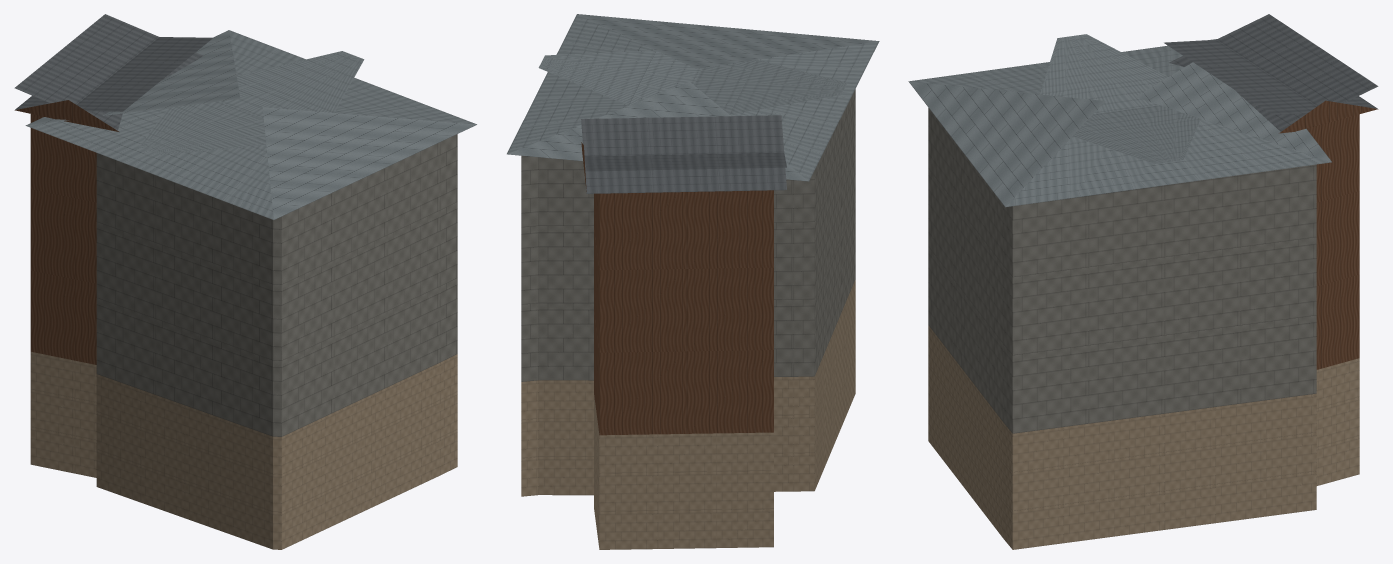
Rendered from bld_c4_6_500.gltf.
3 renders of one model, left to right at view 1: azimuth 30°, elevation 25°; view 2: azimuth 150°, elevation 25°; view 3: azimuth 270°, elevation 25°, orthographic. The views are drawn at different scales.
Parts seen in each view (by area): view 1: bld_c4_6_500; view 2: bld_c4_6_500; view 3: bld_c4_6_500.
Boxes of the visible parts, x1,y1,x2,y2 form: bld_c4_6_500: [14, 14, 476, 549]; bld_c4_6_500: [507, 14, 879, 549]; bld_c4_6_500: [908, 14, 1378, 549].
Size of the model in its own units: 16.08 by 17.1 by 18.7.
Materials: 6 (6 with a texture image).
